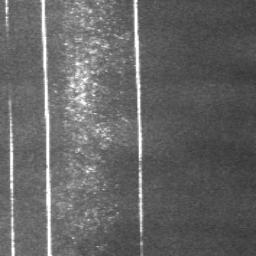Bright scratch: (41, 0, 52, 256), (133, 0, 144, 256), (10, 114, 15, 256), (5, 0, 9, 26)
